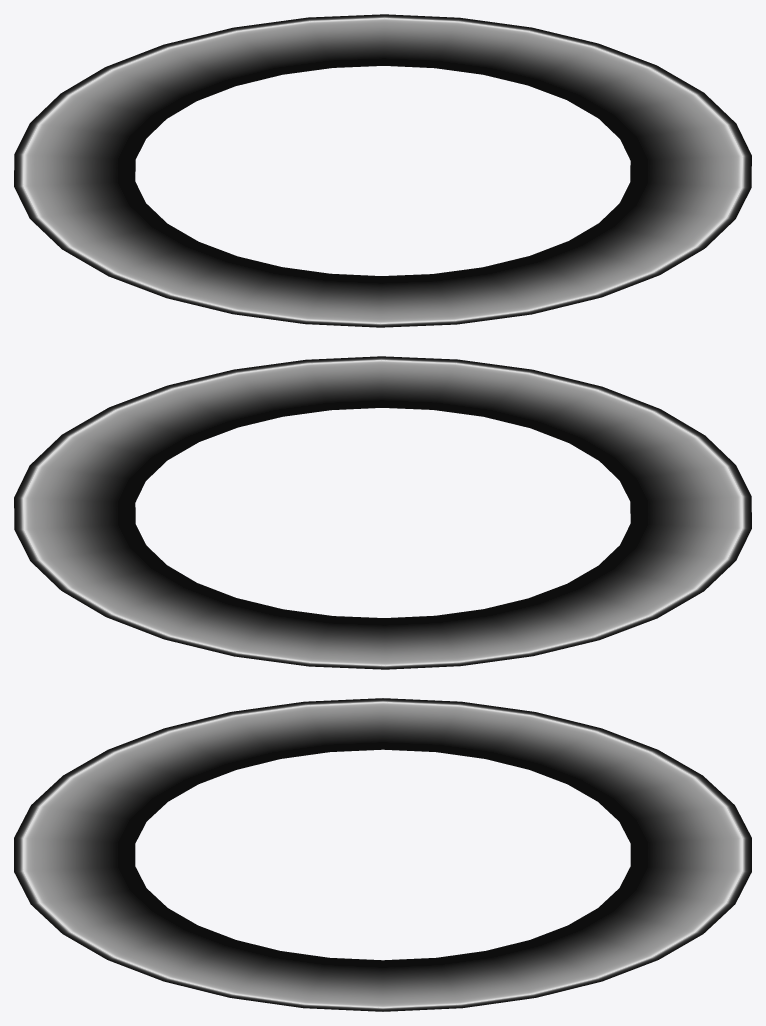
File: Ef_Ring_01.FBX
3 views of the same model, one above another, from view 1: azimuth 30°, elevation 25°; view 2: azimuth 150°, elevation 25°; view 3: azimuth 270°, elevation 25° (orthographic).
Parts seen in each view (by area): view 1: Ef_Ring_01; view 2: Ef_Ring_01; view 3: Ef_Ring_01.
Part boxes in pixels (x1,y1,x2,y2): Ef_Ring_01: (14, 14, 751, 327); Ef_Ring_01: (14, 356, 751, 669); Ef_Ring_01: (14, 698, 751, 1011).
Size of the model in its own units: 47.38 by 7.11e-06 by 47.11.
Materials: 1 (1 with a texture image).
